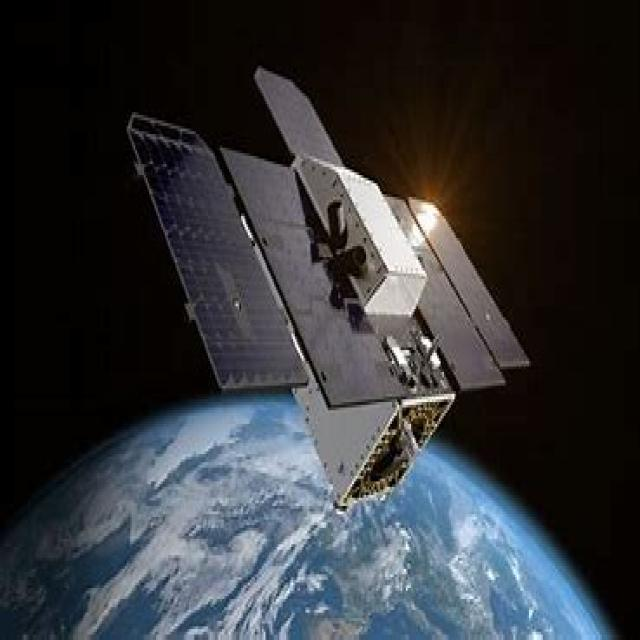satellite: (106, 61, 524, 513)
